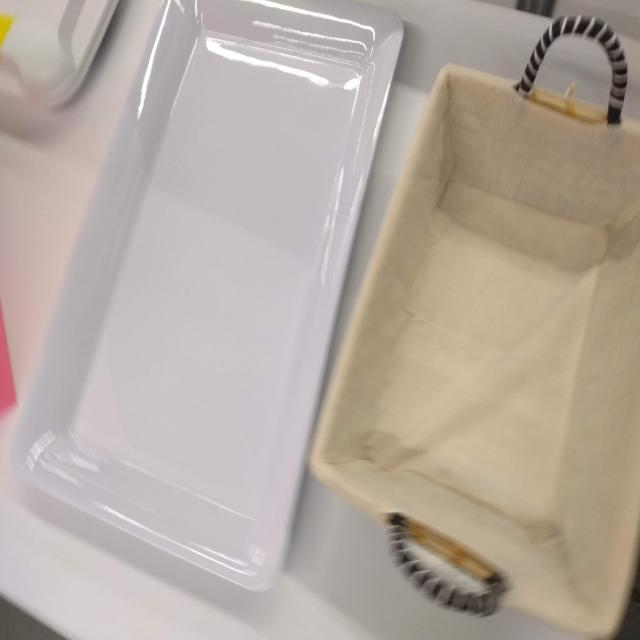basket: (307, 13, 640, 633)
tray: (8, 1, 409, 582)
